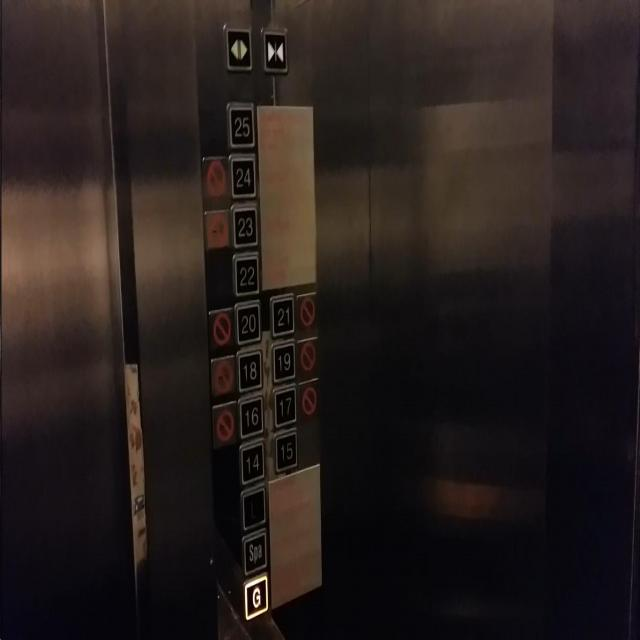14: (238, 439, 264, 483)
15: (272, 428, 298, 472)
16: (237, 392, 265, 438)
17: (271, 384, 297, 428)
18: (235, 345, 264, 393)
19: (270, 341, 296, 382)
20: (232, 297, 262, 345)
21: (268, 292, 296, 336)
22: (231, 249, 260, 297)
23: (230, 201, 259, 248)
24: (227, 150, 257, 199)
25: (226, 100, 256, 149)
G: (242, 574, 270, 623)
SPA: (240, 526, 268, 575)
close: (260, 24, 289, 77)
empty: (240, 483, 266, 528)
open: (222, 23, 254, 74)
